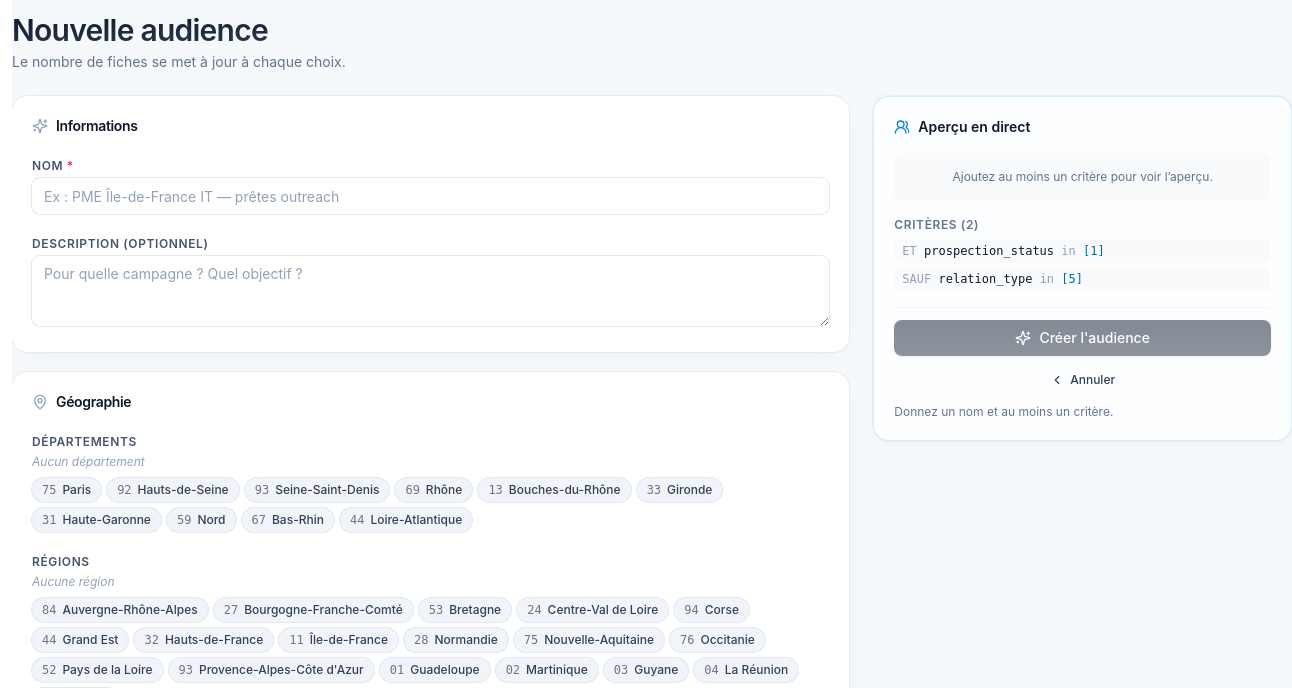
Test: AudienceBuilderPage — parcours › cliquer un département et cocher « a un email » construit les CRITÈRES envoyés à l’aperçu
Step 1. Click the button "75 Paris" → point(67, 490), box [32,478,101,502]
(page scrolled)
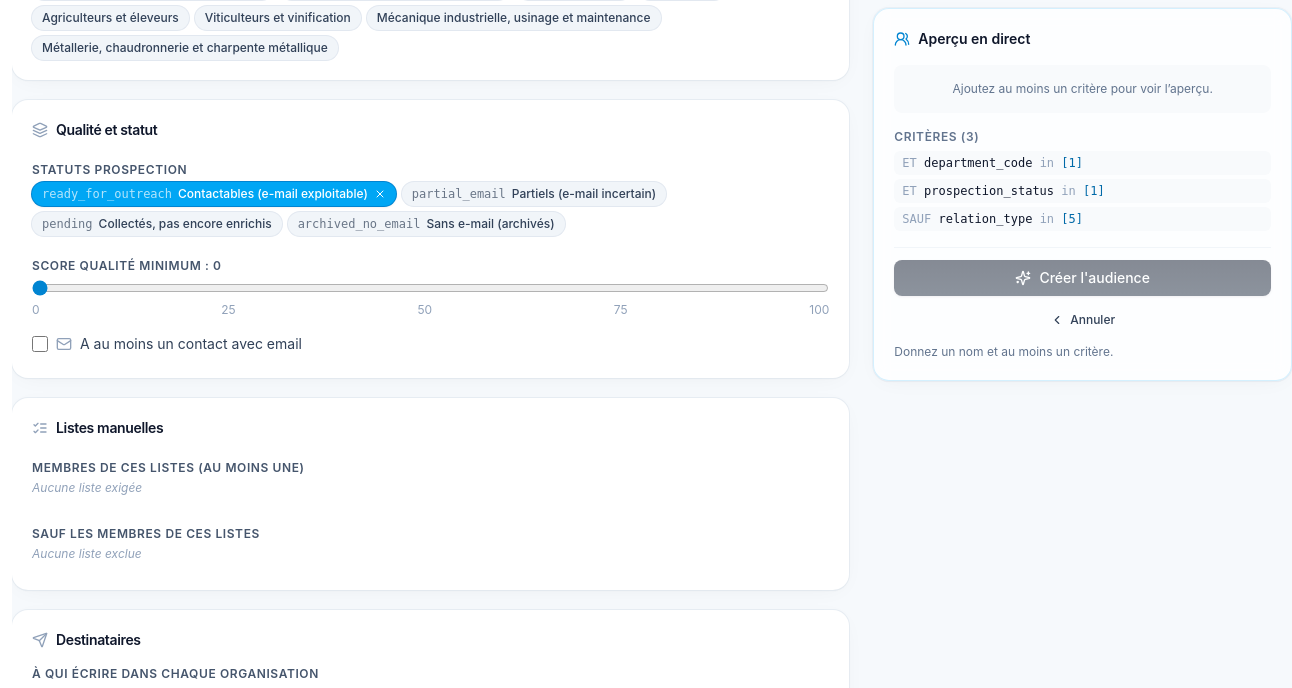
Step 2. Click the checkbox labelled "A au moins un contact avec email" → point(40, 344), box [32,336,48,352]
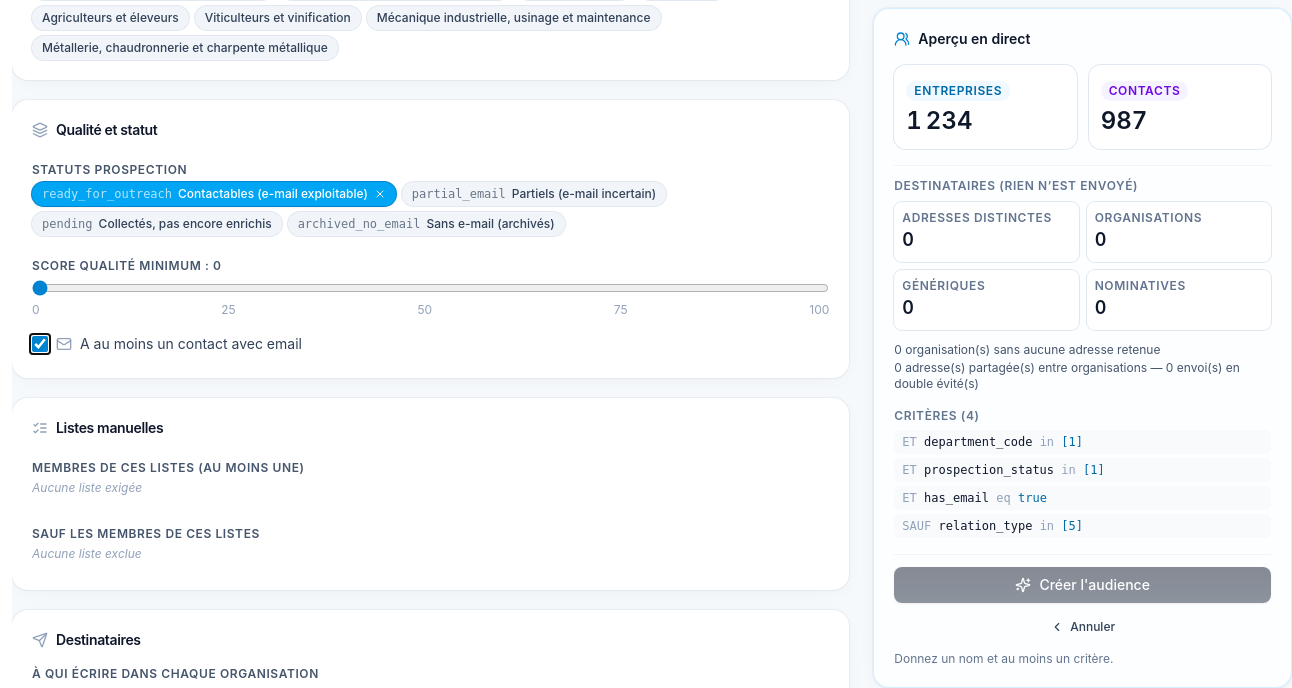
Expected: the text "1 234" is shown, [906,106,972,135]
Expected: the text "987" is shown, [1101,106,1147,135]
